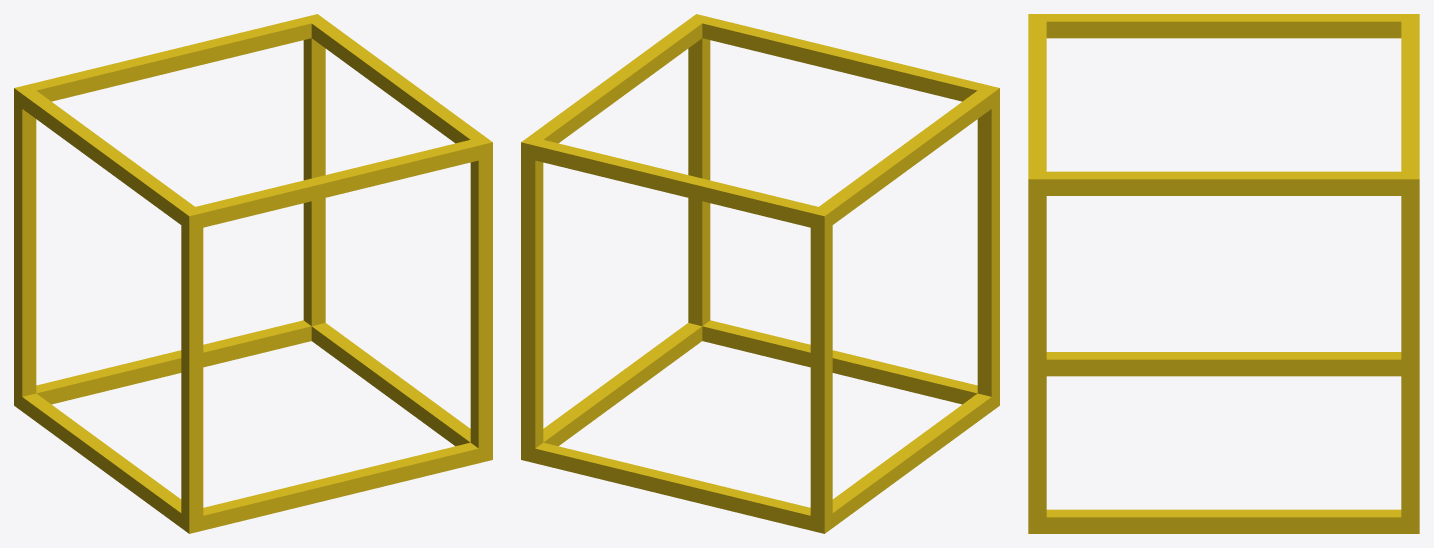
The model's file is ToolMeshCursor3DBox.glb.
3 views of the same model, side by side, from view 1: azimuth 30°, elevation 25°; view 2: azimuth 150°, elevation 25°; view 3: azimuth 270°, elevation 25° (orthographic). The views are drawn at different scales.
Parts seen in each view (by area): view 1: Cursor3DBox; view 2: Cursor3DBox; view 3: Cursor3DBox.
Boxes of the visible parts, x1=… form: Cursor3DBox: x1=14, y1=14, x2=492, y2=533; Cursor3DBox: x1=521, y1=14, x2=999, y2=533; Cursor3DBox: x1=1028, y1=14, x2=1419, y2=533.
Size of the model in its own units: 6.12 by 6.12 by 6.12.
